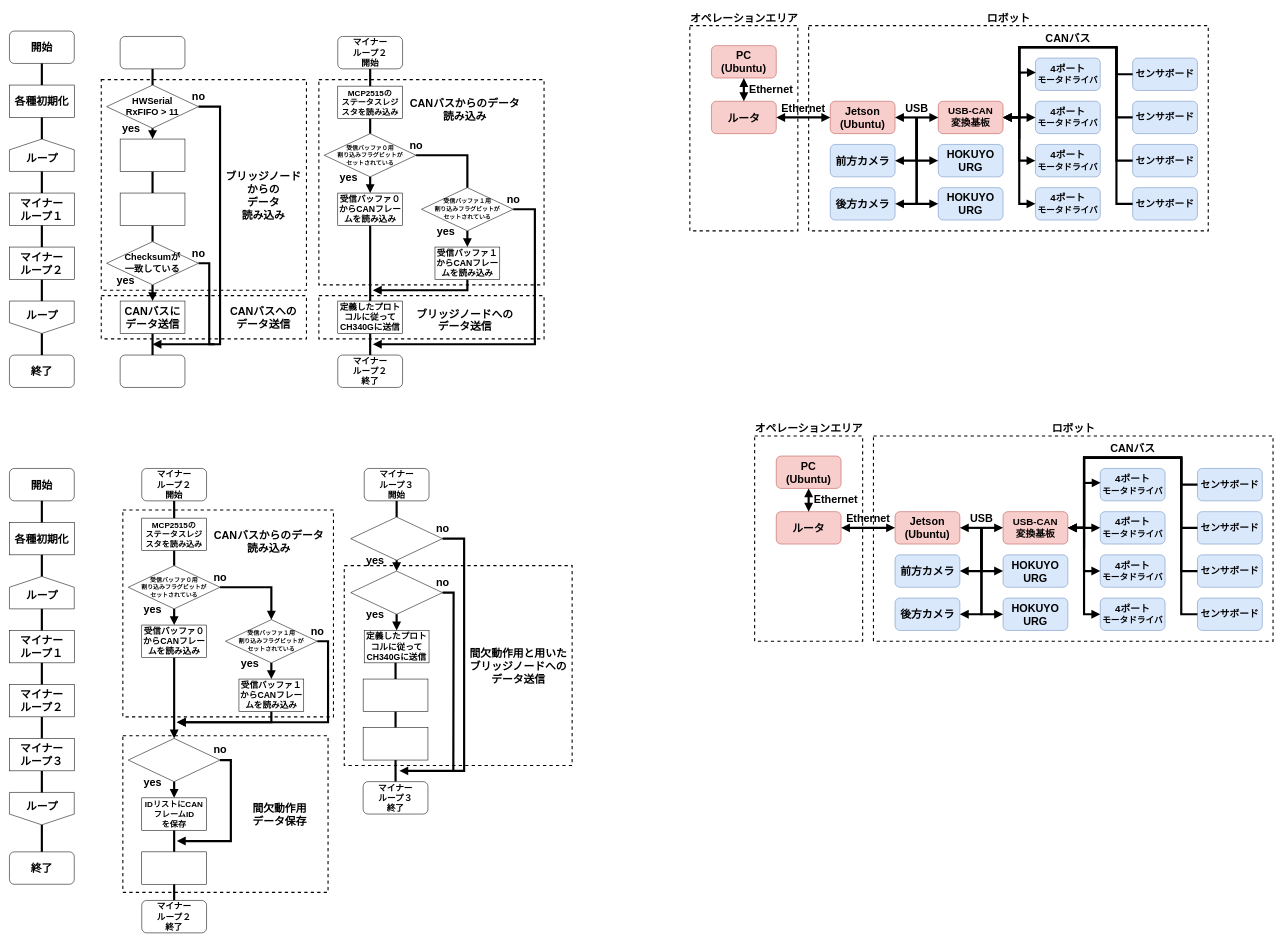
The diagram is 1283 pixels wide and 942 high, and some of its shapes have lost their labels. Each missing label, with the box of its shape:
Checksum計算: (120, 193, 185, 225)
DATAリストにCANフレームデータを保存: (141, 851, 207, 884)
IDリストに1つ以上 登録されているか: (350, 517, 443, 560)
データ 読み込み: (120, 139, 185, 171)
マイナー ループ１ 終了: (120, 355, 185, 387)
マイナー ループ１ 開始: (120, 36, 185, 69)
前回送信時から 設定時間経過後か: (350, 571, 443, 614)
受信したフレームのID がIDリストに存在しない: (128, 738, 220, 782)
読み込み用 インデックス を更新: (363, 679, 428, 711)
送信時刻を 保存: (363, 727, 428, 760)
